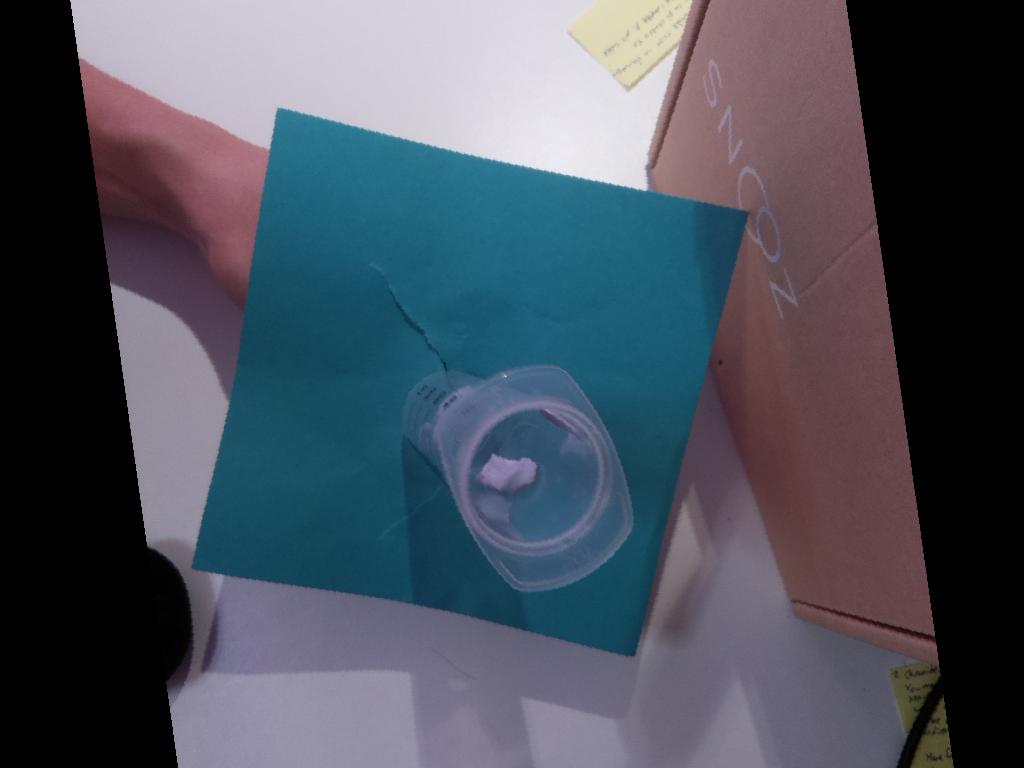dirty: (434, 364, 634, 590)
